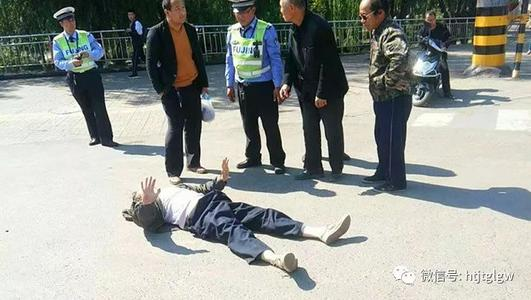fall: (109, 152, 359, 278)
